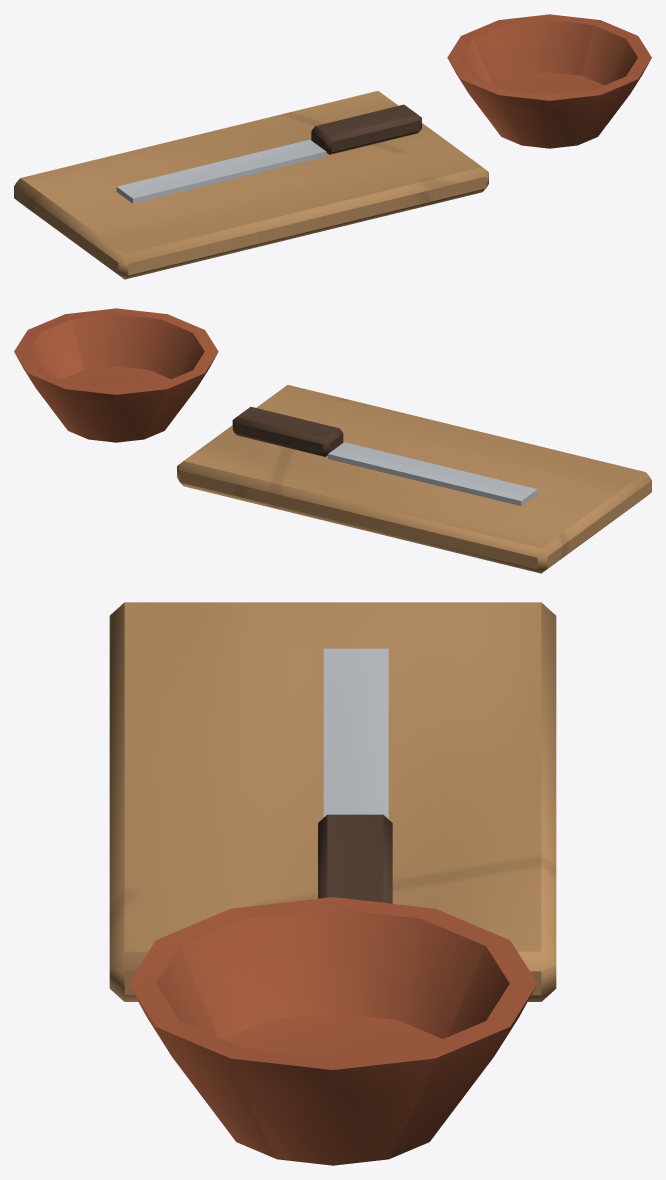
File: counter_props_board.glb
The picture shows the model from 3 angles, top to bottom: view 1: azimuth 30°, elevation 25°; view 2: azimuth 150°, elevation 25°; view 3: azimuth 270°, elevation 25°; orthographic projection. The views are drawn at different scales.
Visible parts, largest first — view 1: counter_props_board_body; view 2: counter_props_board_body; view 3: counter_props_board_body.
Boxes of the visible parts, bbox=[...] form: counter_props_board_body: bbox=[14, 14, 651, 279]; counter_props_board_body: bbox=[14, 308, 651, 573]; counter_props_board_body: bbox=[109, 602, 556, 1165].
Size of the model in its own units: 0.71 by 0.08 by 0.24.
4 materials, 4 textured.
